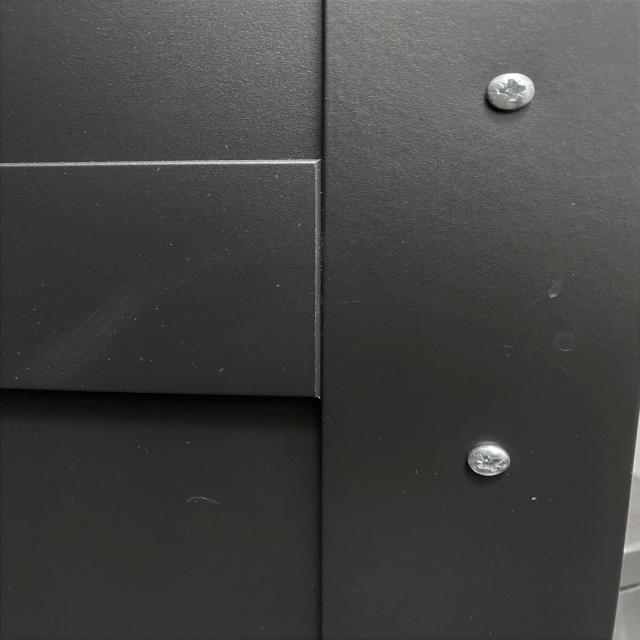PhillipsScrewHead: (487, 72, 535, 110), (468, 446, 512, 476)
